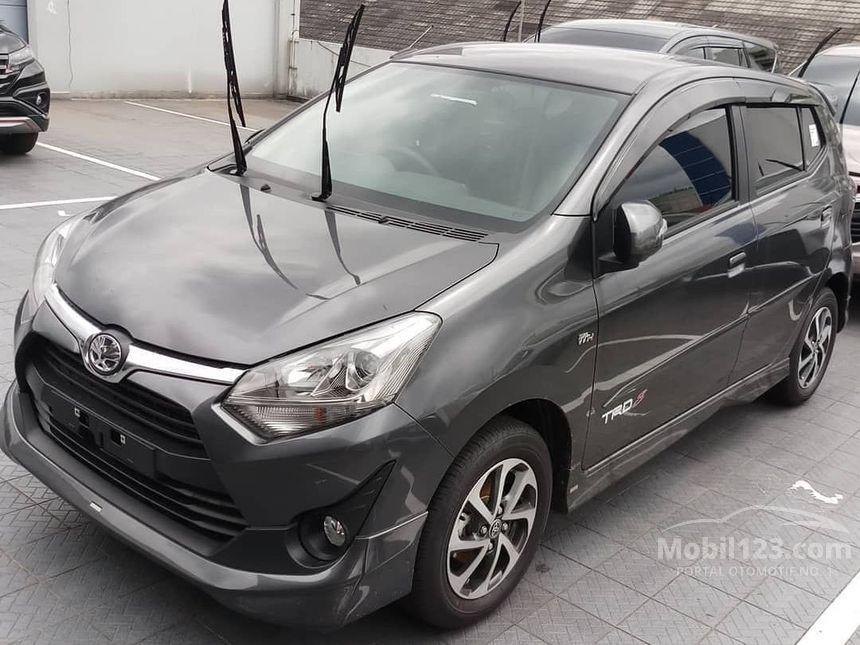mobil: (6, 6, 846, 629)
